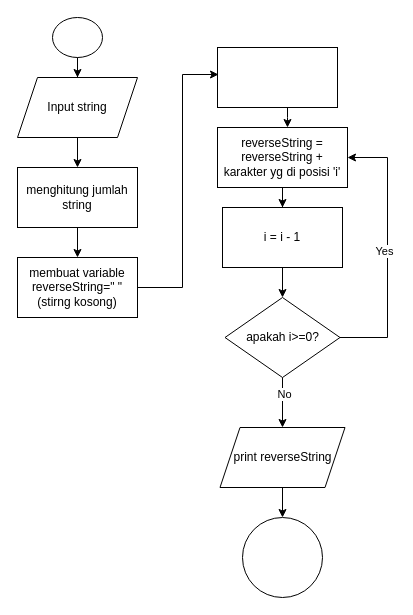
The diagram is 413 pixels wide and 615 high, and some of its shapes have lost their labels. Each missing label, with the box of its shape:
membuat variable i = length - 1: (216, 46, 338, 108)
mulai: (52, 16, 102, 58)
Selsai: (242, 516, 322, 598)
